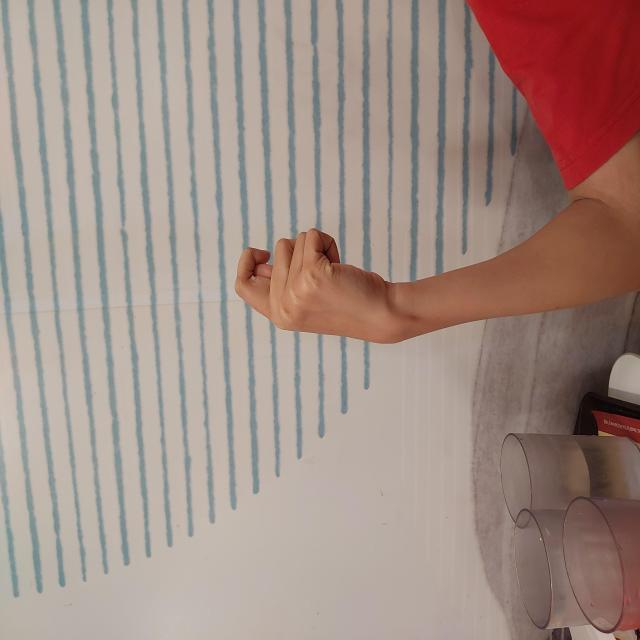T: (297, 234, 415, 394)
